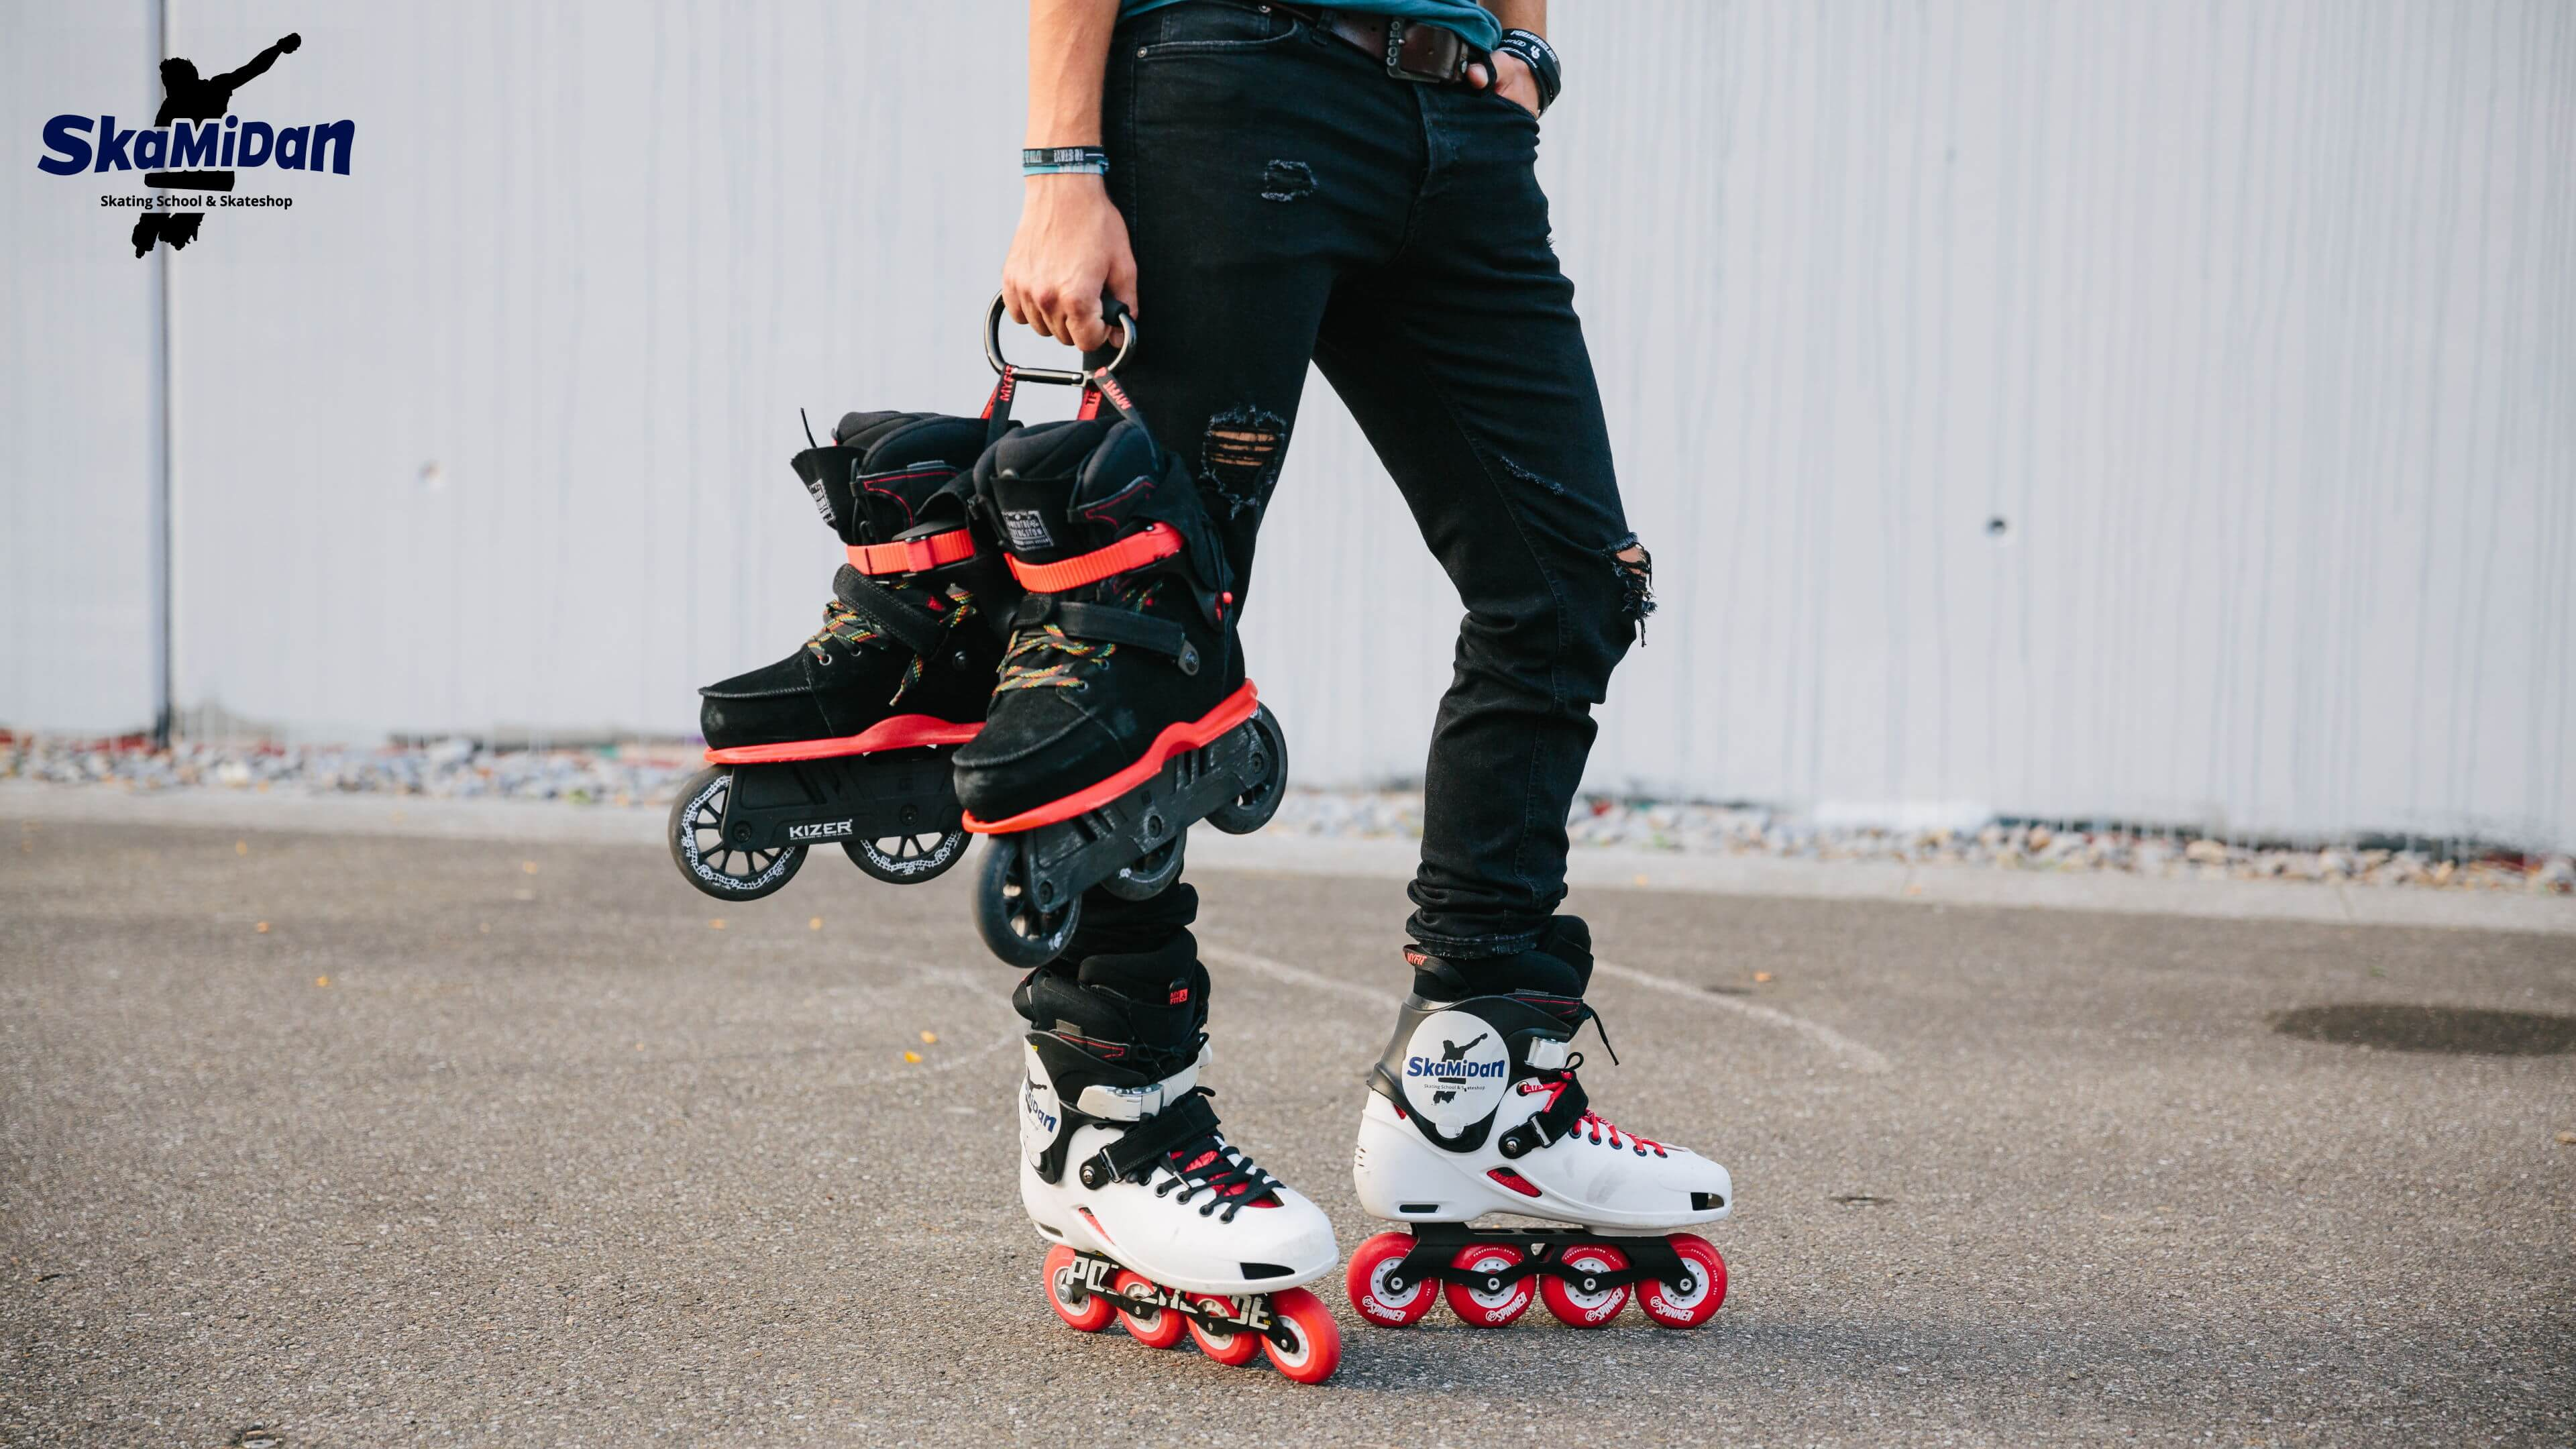roller_blade: (679, 410, 991, 890), (1357, 950, 1746, 1327), (1016, 952, 1348, 1384), (1005, 421, 1290, 835)
